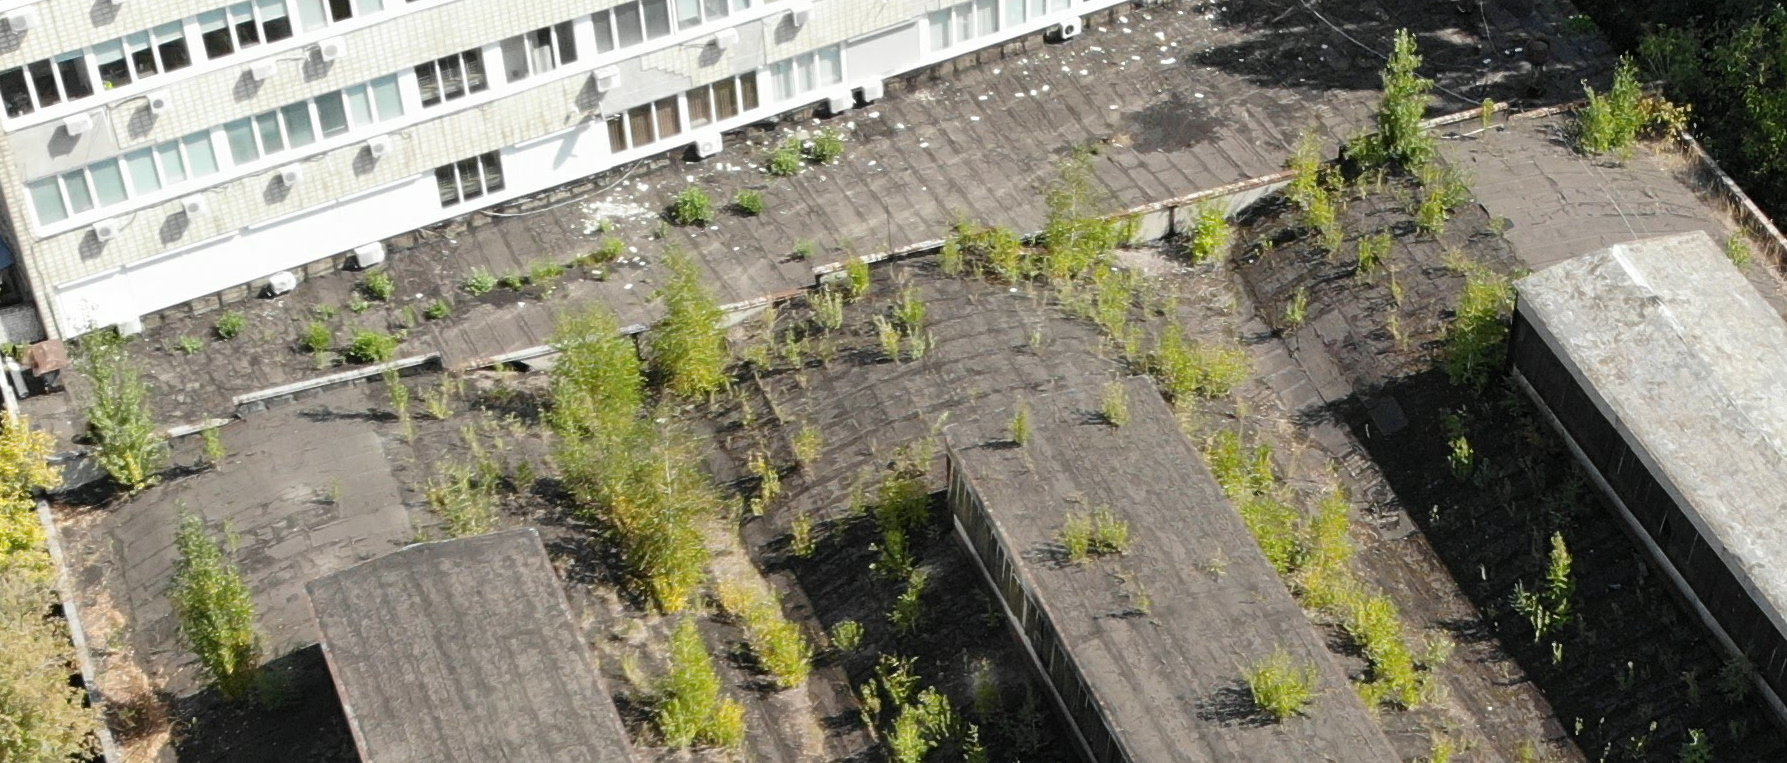tree: (153, 521, 281, 716), (611, 431, 724, 617), (547, 328, 652, 513), (74, 338, 180, 496), (1418, 254, 1524, 398), (639, 612, 745, 752), (645, 249, 742, 392), (1021, 167, 1135, 287), (1379, 16, 1452, 194), (1520, 537, 1601, 666), (1214, 427, 1284, 539), (865, 535, 943, 634), (1578, 62, 1649, 165), (1302, 492, 1365, 606), (436, 455, 512, 546), (1243, 646, 1321, 724), (872, 685, 954, 760), (1154, 206, 1243, 271), (1153, 315, 1206, 416), (929, 218, 1012, 282), (1198, 336, 1258, 417), (1060, 508, 1131, 575), (754, 619, 816, 696), (822, 604, 881, 679), (879, 443, 930, 527), (824, 246, 881, 311), (1273, 152, 1324, 224), (666, 186, 721, 238), (790, 419, 837, 478), (349, 263, 406, 309), (349, 330, 395, 379), (726, 181, 770, 225), (808, 128, 849, 174), (203, 409, 232, 473), (209, 310, 251, 349), (767, 136, 802, 180), (303, 312, 337, 356), (462, 267, 492, 302)
